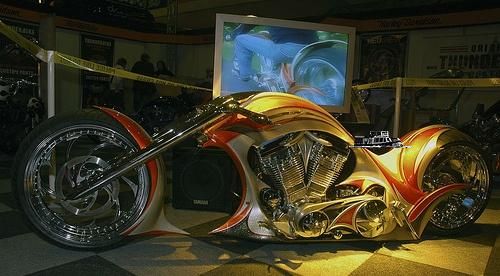tampered: (350, 132, 412, 148)
